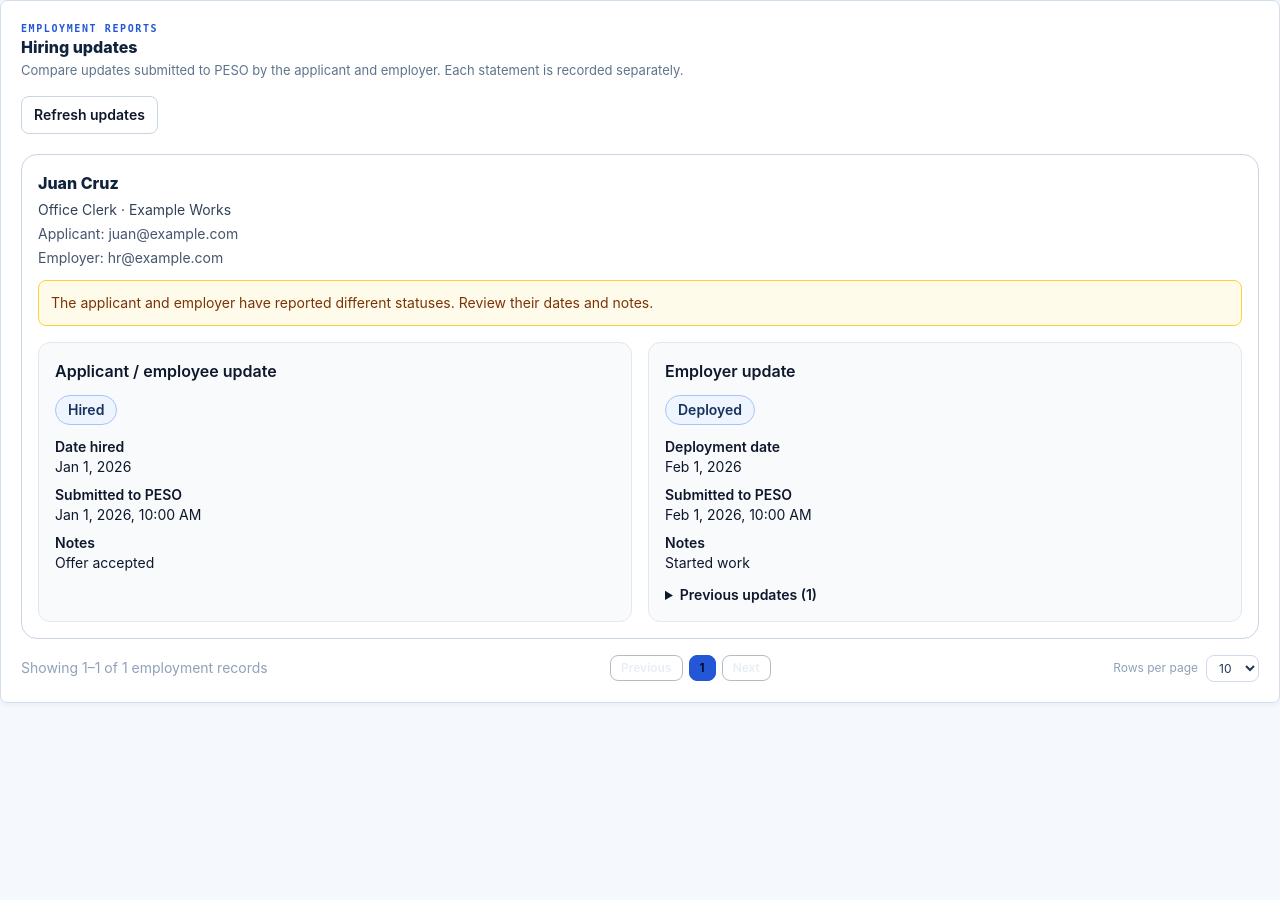
Test case: admin hiring updates page › shows both parties side by side, status differences, dates, notes and history
expect the heading "Juan Cruz" is shown: met, box left=38, top=173, right=119, bottom=193
expect the text "Hired" is shown: met, box left=55, top=395, right=117, bottom=425
Click the heading "Previous updates (1)".
click(748, 594)  # box left=680, top=586, right=817, bottom=603
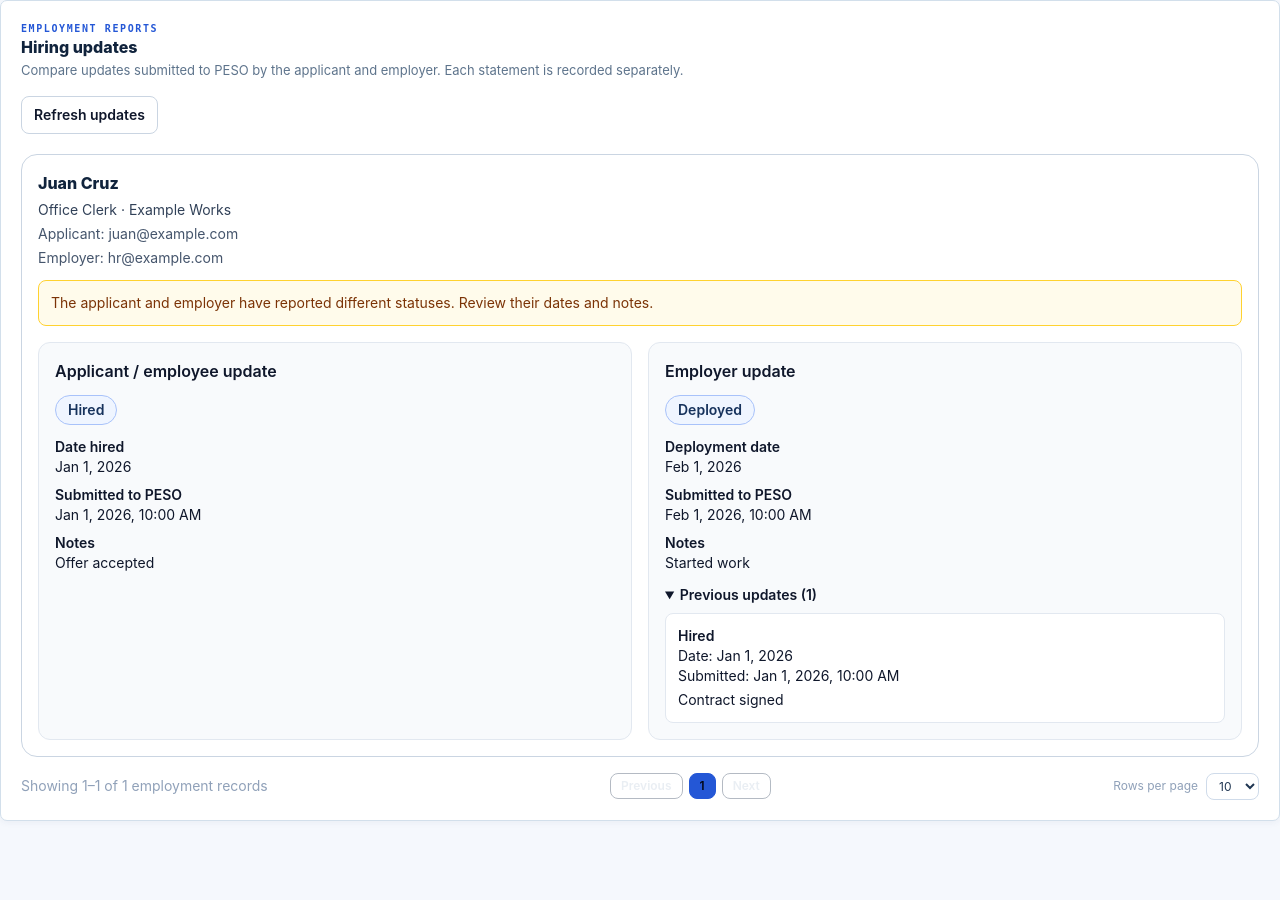
expect the text "Contract signed" is shown: met, box left=678, top=691, right=784, bottom=708
